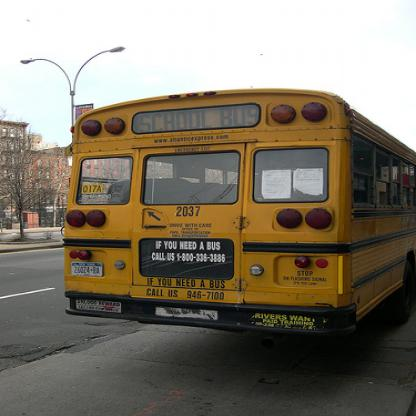bus: (64, 90, 416, 344)
